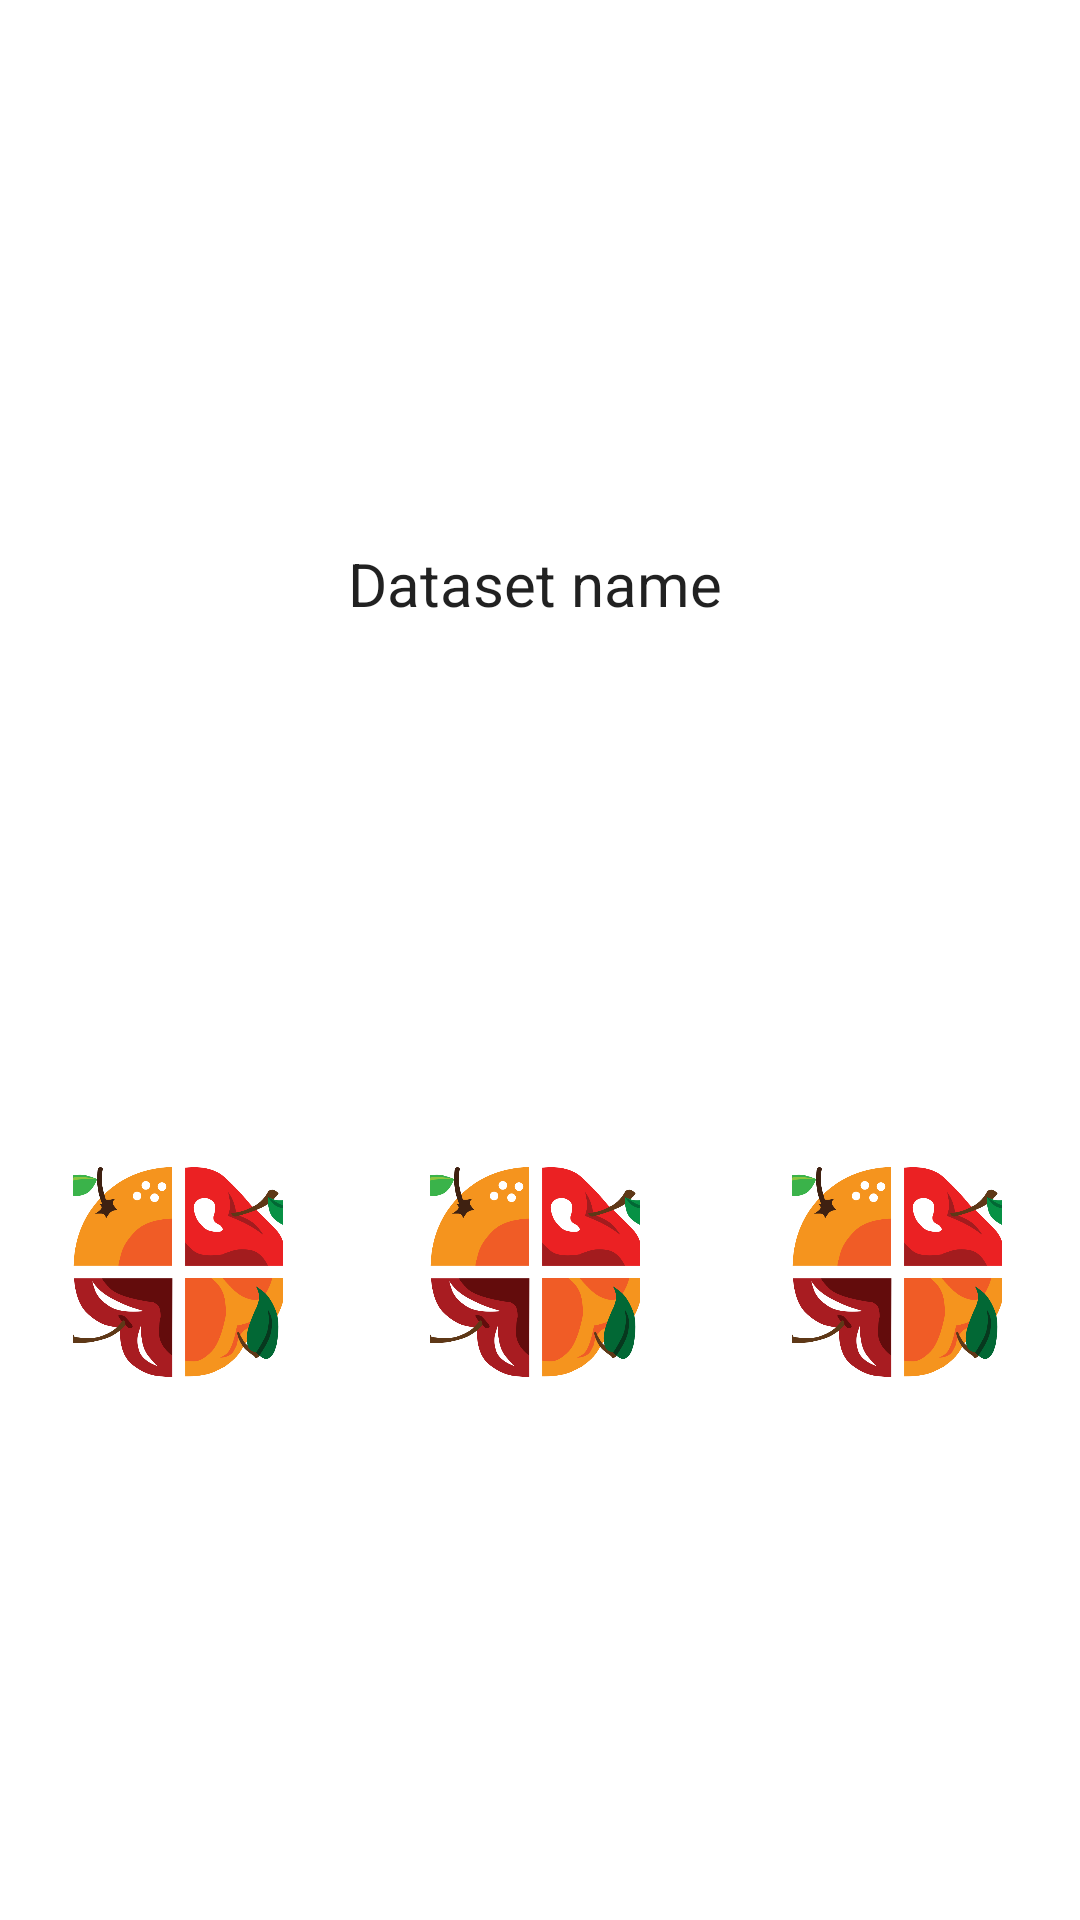

Named icons in this screenshot (1080px x 1920px) and their bounding boxes, (x1, y1, x2, y2):
Category representative of the dataset: (73, 1167, 283, 1377), (430, 1167, 640, 1377), (792, 1167, 1002, 1377)
